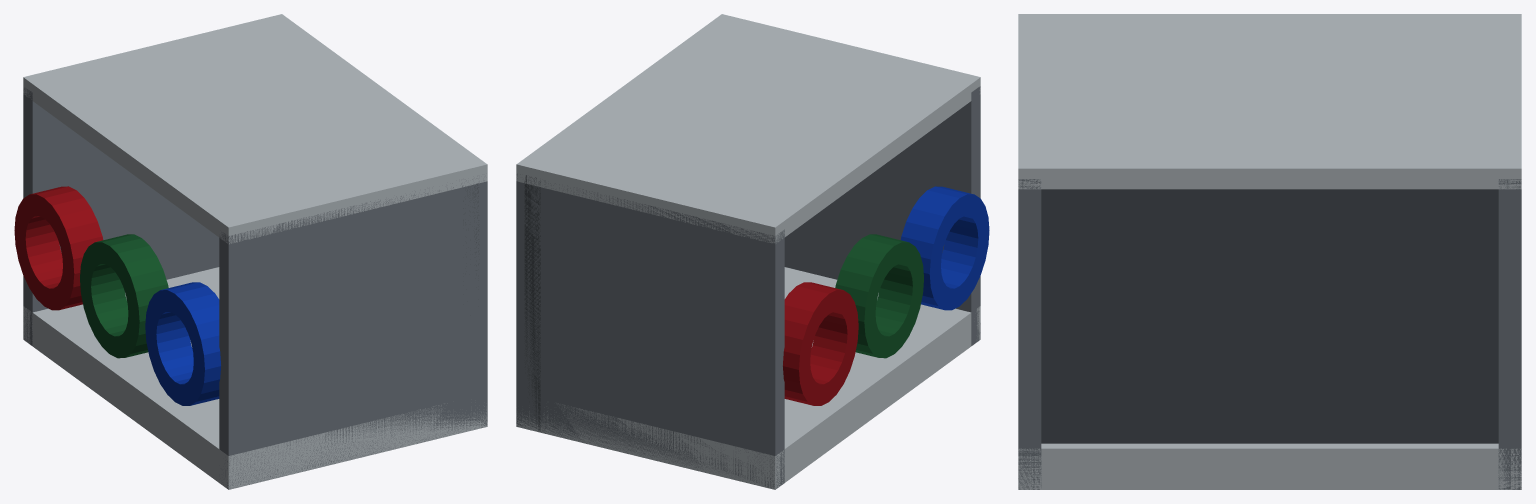
Rendered from L131_AUDIO.fbx.
The picture shows the model from 3 angles, left to right: view 1: azimuth 30°, elevation 25°; view 2: azimuth 150°, elevation 25°; view 3: azimuth 270°, elevation 25°; orthographic projection. The views are drawn at different scales.
Visible parts, largest first — view 1: AUDIO_Silver, AUDIO_Steel, AUDIO_Blue, AUDIO_Green, AUDIO_Red; view 2: AUDIO_Silver, AUDIO_Steel, AUDIO_Red, AUDIO_Green, AUDIO_Blue, AUDIO_Gray; view 3: AUDIO_Gray, AUDIO_Silver, AUDIO_Steel.
Boxes of the visible parts, <box> form: AUDIO_Silver: <box>23,14,487,489</box>; AUDIO_Steel: <box>23,87,487,489</box>; AUDIO_Blue: <box>145,282,220,405</box>; AUDIO_Green: <box>80,234,168,358</box>; AUDIO_Red: <box>14,186,103,310</box>; AUDIO_Silver: <box>516,14,980,489</box>; AUDIO_Steel: <box>516,86,980,488</box>; AUDIO_Red: <box>783,282,858,405</box>; AUDIO_Green: <box>835,234,923,358</box>; AUDIO_Blue: <box>900,186,989,310</box>; AUDIO_Gray: <box>524,175,540,431</box>; AUDIO_Gray: <box>1041,189,1498,443</box>; AUDIO_Silver: <box>1018,14,1521,489</box>; AUDIO_Steel: <box>1018,179,1521,489</box>.
Bounding box in the file's own units: 1.7 × 1.55 × 2.2.
